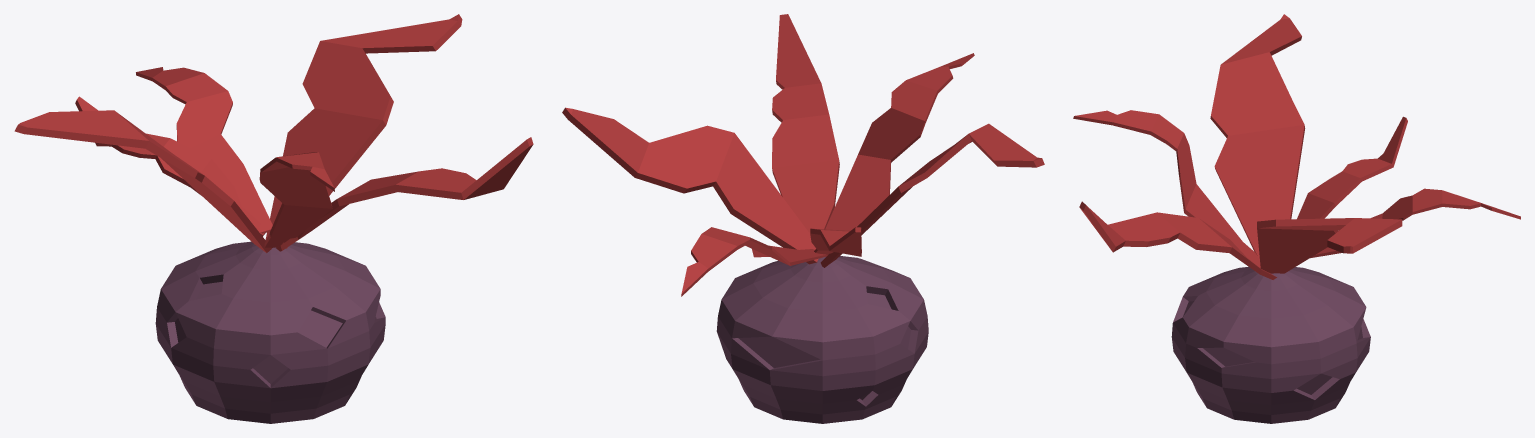
Rendered from Plant_05.fbx.
3 views of the same model, side by side, from view 1: azimuth 30°, elevation 25°; view 2: azimuth 150°, elevation 25°; view 3: azimuth 270°, elevation 25° (orthographic). The views are drawn at different scales.
Parts seen in each view (by area): view 1: Plant_05; view 2: Plant_05; view 3: Plant_05.
Part boxes in pixels (<box>): Plant_05: <box>14,14,533,423</box>; Plant_05: <box>562,14,1044,423</box>; Plant_05: <box>1073,14,1520,423</box>.
Bounding box in the file's own units: 493 × 308 × 455.
